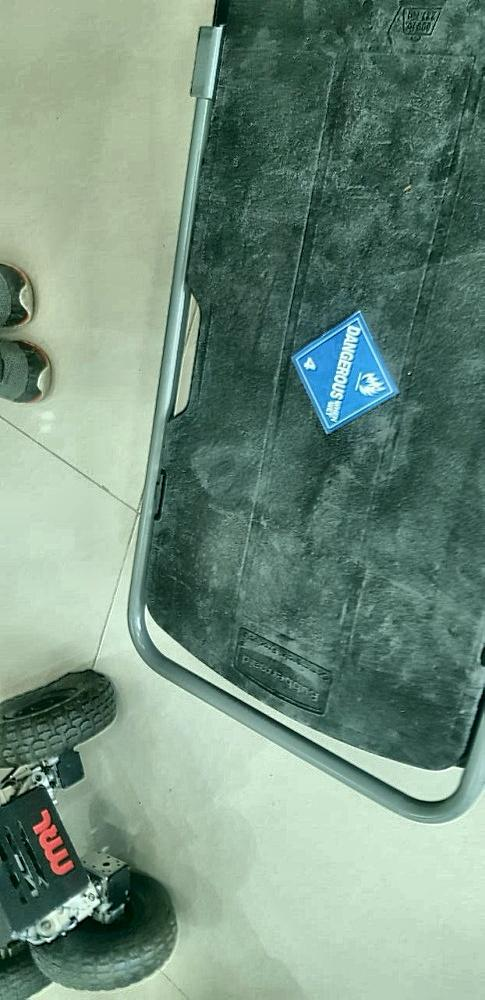dangerous-when-wet: (295, 314, 399, 433)
